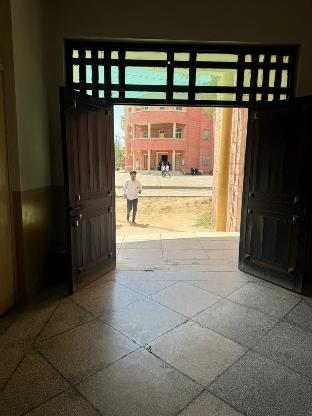door: (52, 33, 312, 284)
person: (122, 169, 143, 225)
